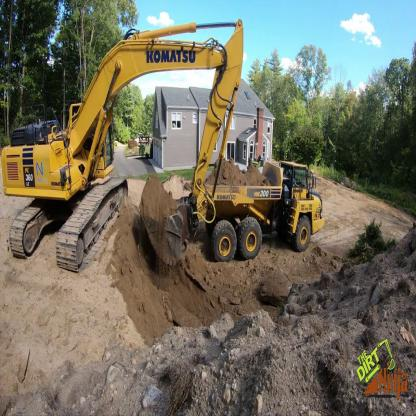bull_dozer/loader/grader: (61, 2, 394, 365)
